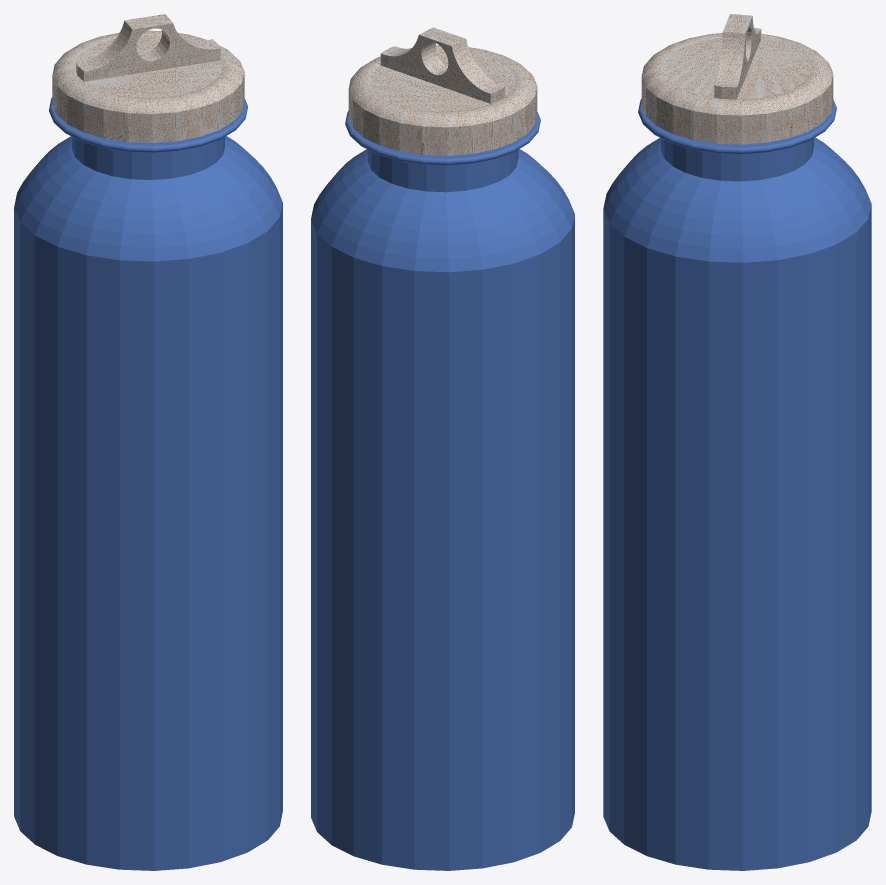
3 views of the same model, side by side, from view 1: azimuth 30°, elevation 25°; view 2: azimuth 150°, elevation 25°; view 3: azimuth 270°, elevation 25° (orthographic).
Visible parts, largest first — view 1: mesh1_mesh1-geometry; view 2: mesh1_mesh1-geometry; view 3: mesh1_mesh1-geometry.
Boxes of the visible parts, <box> form: mesh1_mesh1-geometry: <box>14,14,282,870</box>; mesh1_mesh1-geometry: <box>311,27,574,870</box>; mesh1_mesh1-geometry: <box>603,14,871,870</box>.
Bounding box in the file's own units: 0.2819 × 0.9171 × 0.2819.
